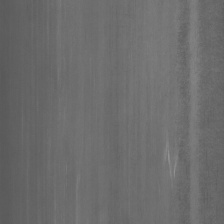silk_spot: (157, 126, 183, 188)
